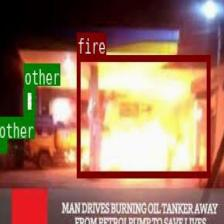fire: (76, 55, 210, 176)
